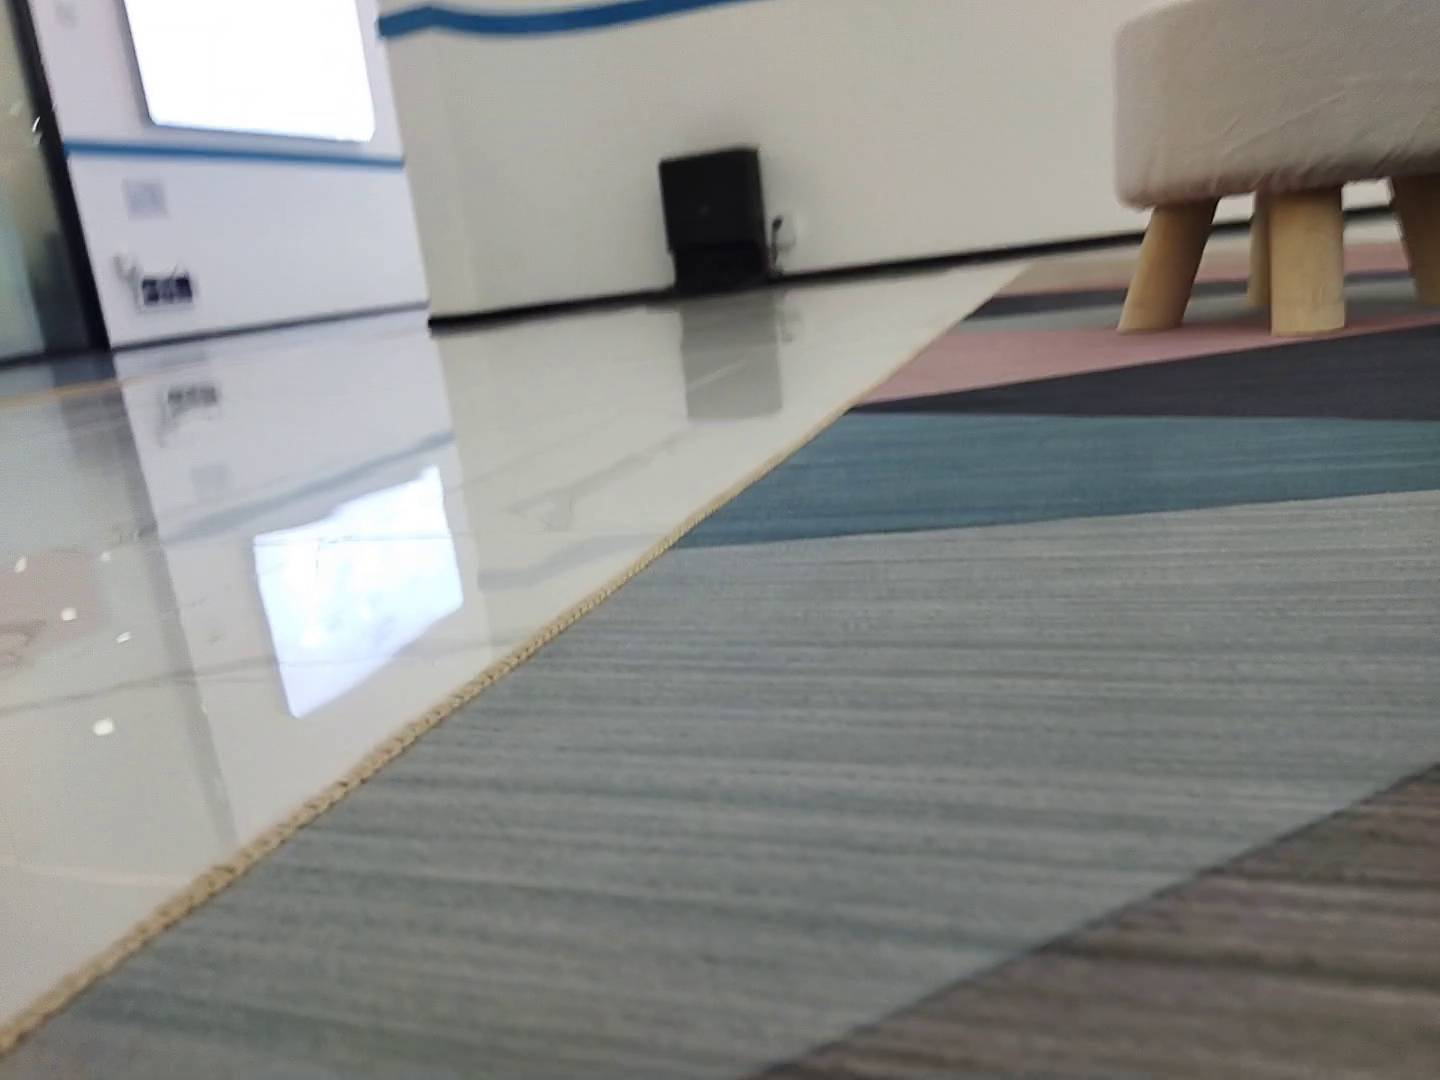dust collecting barrel: (619, 146, 781, 303)
